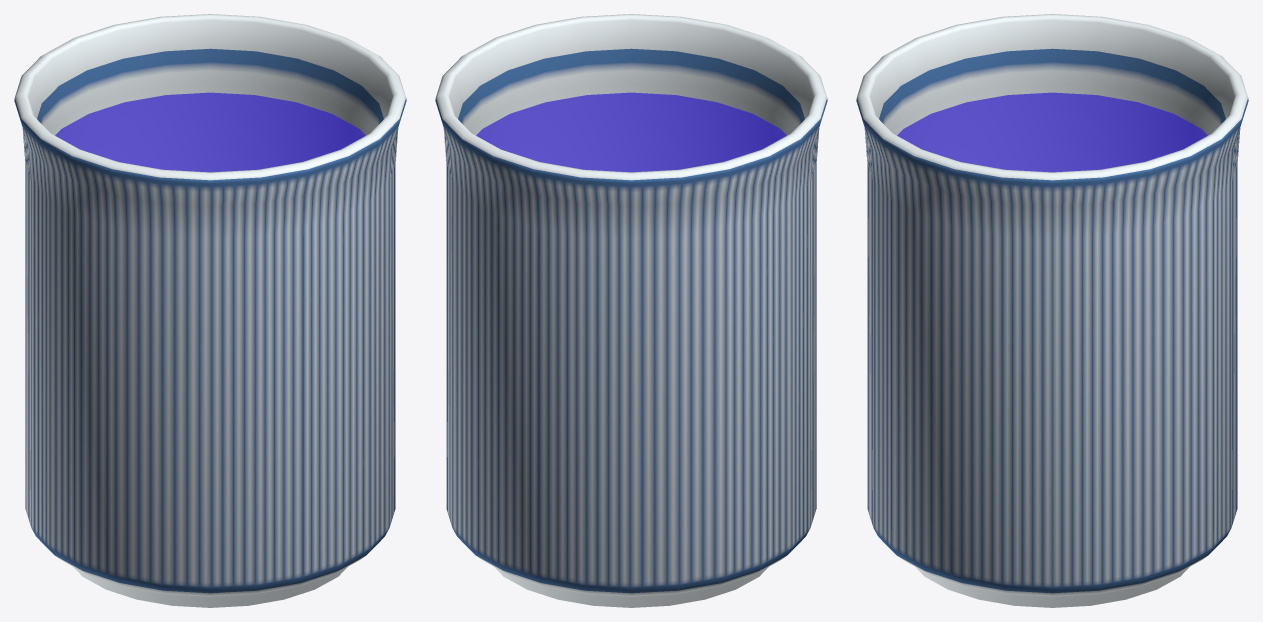
Rendered from 飲み物_湯呑.fbx.
The picture shows the model from 3 angles, left to right: view 1: azimuth 30°, elevation 25°; view 2: azimuth 150°, elevation 25°; view 3: azimuth 270°, elevation 25°; orthographic projection.
Parts seen in each view (by area): view 1: 湯呑, 液面; view 2: 湯呑, 液面; view 3: 湯呑, 液面.
Part boxes in pixels (x1,y1,x2,y2): 湯呑: (14,14,406,607); 液面: (55,92,365,172); 湯呑: (435,14,827,607); 液面: (476,92,786,172); 湯呑: (856,14,1248,607); 液面: (897,92,1207,172).
Size of the model in its own units: 5.93 by 7.53 by 5.93.
Materials: 2 (1 with a texture image).
